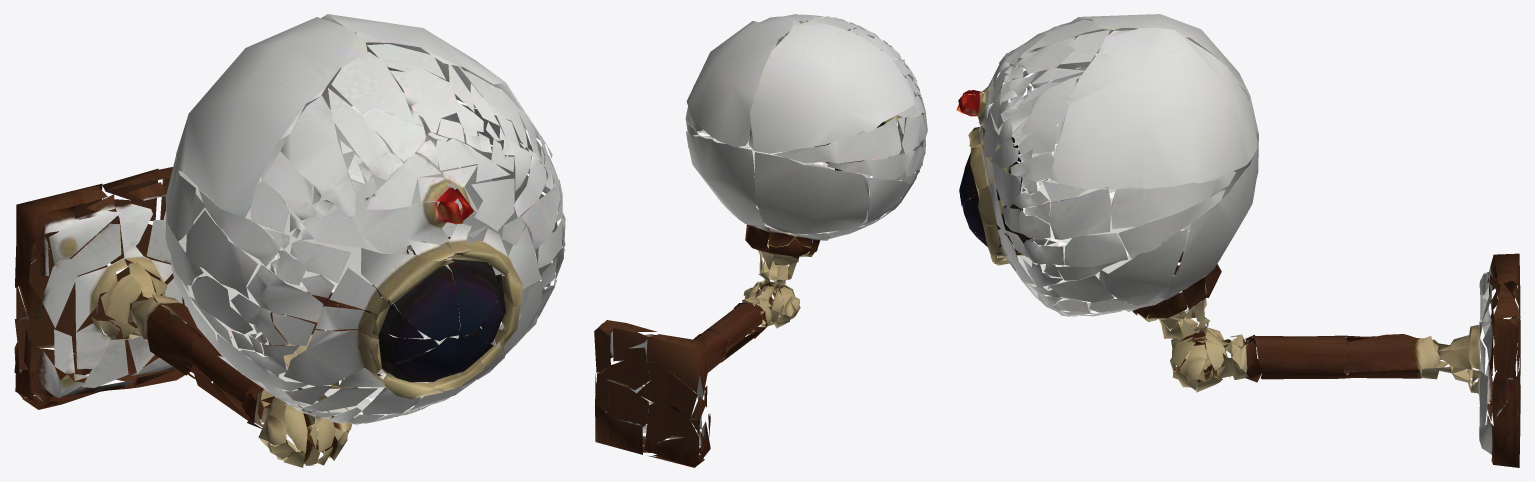
File: camera.glb
3 views of the same model, side by side, from view 1: azimuth 30°, elevation 25°; view 2: azimuth 150°, elevation 25°; view 3: azimuth 270°, elevation 25° (orthographic). The views are drawn at different scales.
Parts seen in each view (by area): view 1: Mesh_0; view 2: Mesh_0; view 3: Mesh_0.
Part boxes in pixels (x1=…): Mesh_0: x1=14, y1=14, x2=565, y2=467; Mesh_0: x1=594, y1=14, x2=927, y2=467; Mesh_0: x1=956, y1=14, x2=1520, y2=467.
Bounding box in the file's own units: 0.2373 × 0.35 × 0.4319.
1 material, 1 textured.
